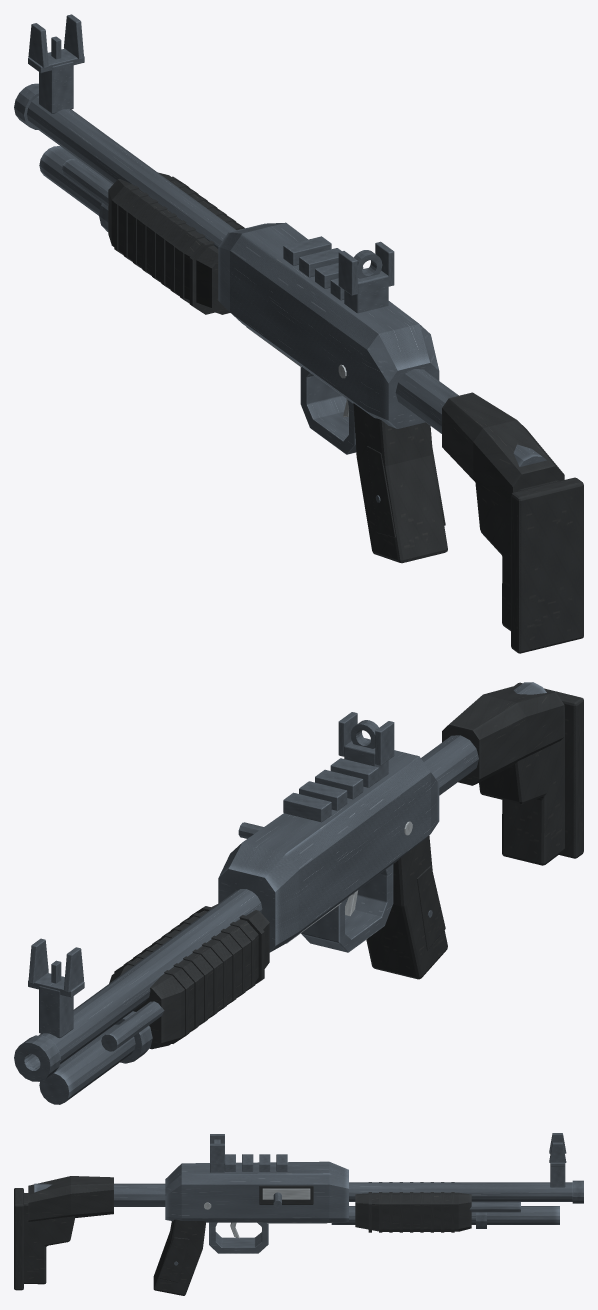
The picture shows the model from 3 angles, top to bottom: view 1: azimuth 30°, elevation 25°; view 2: azimuth 150°, elevation 25°; view 3: azimuth 270°, elevation 25°; orthographic projection. The views are drawn at different scales.
Parts seen in each view (by area): view 1: xm1014_Body; view 2: xm1014_Body; view 3: xm1014_Body, xm1014_Bolt.
Boxes of the visible parts, left/top/right/bottom form: xm1014_Body: left=14, top=14, right=583, bottom=653; xm1014_Body: left=14, top=682, right=583, bottom=1104; xm1014_Body: left=14, top=1133, right=583, bottom=1295; xm1014_Bolt: left=262, top=1188, right=310, bottom=1208.
Bounding box in the file's own units: 0.1544 × 0.389 × 1.32.
3 materials, 3 textured.
